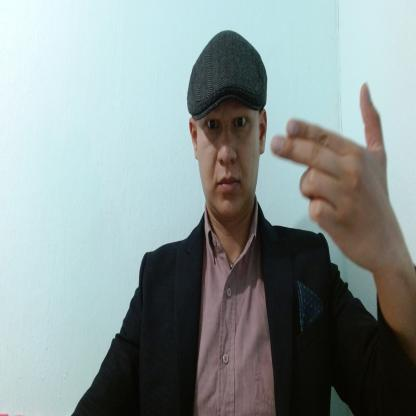H: (270, 82, 388, 268)
